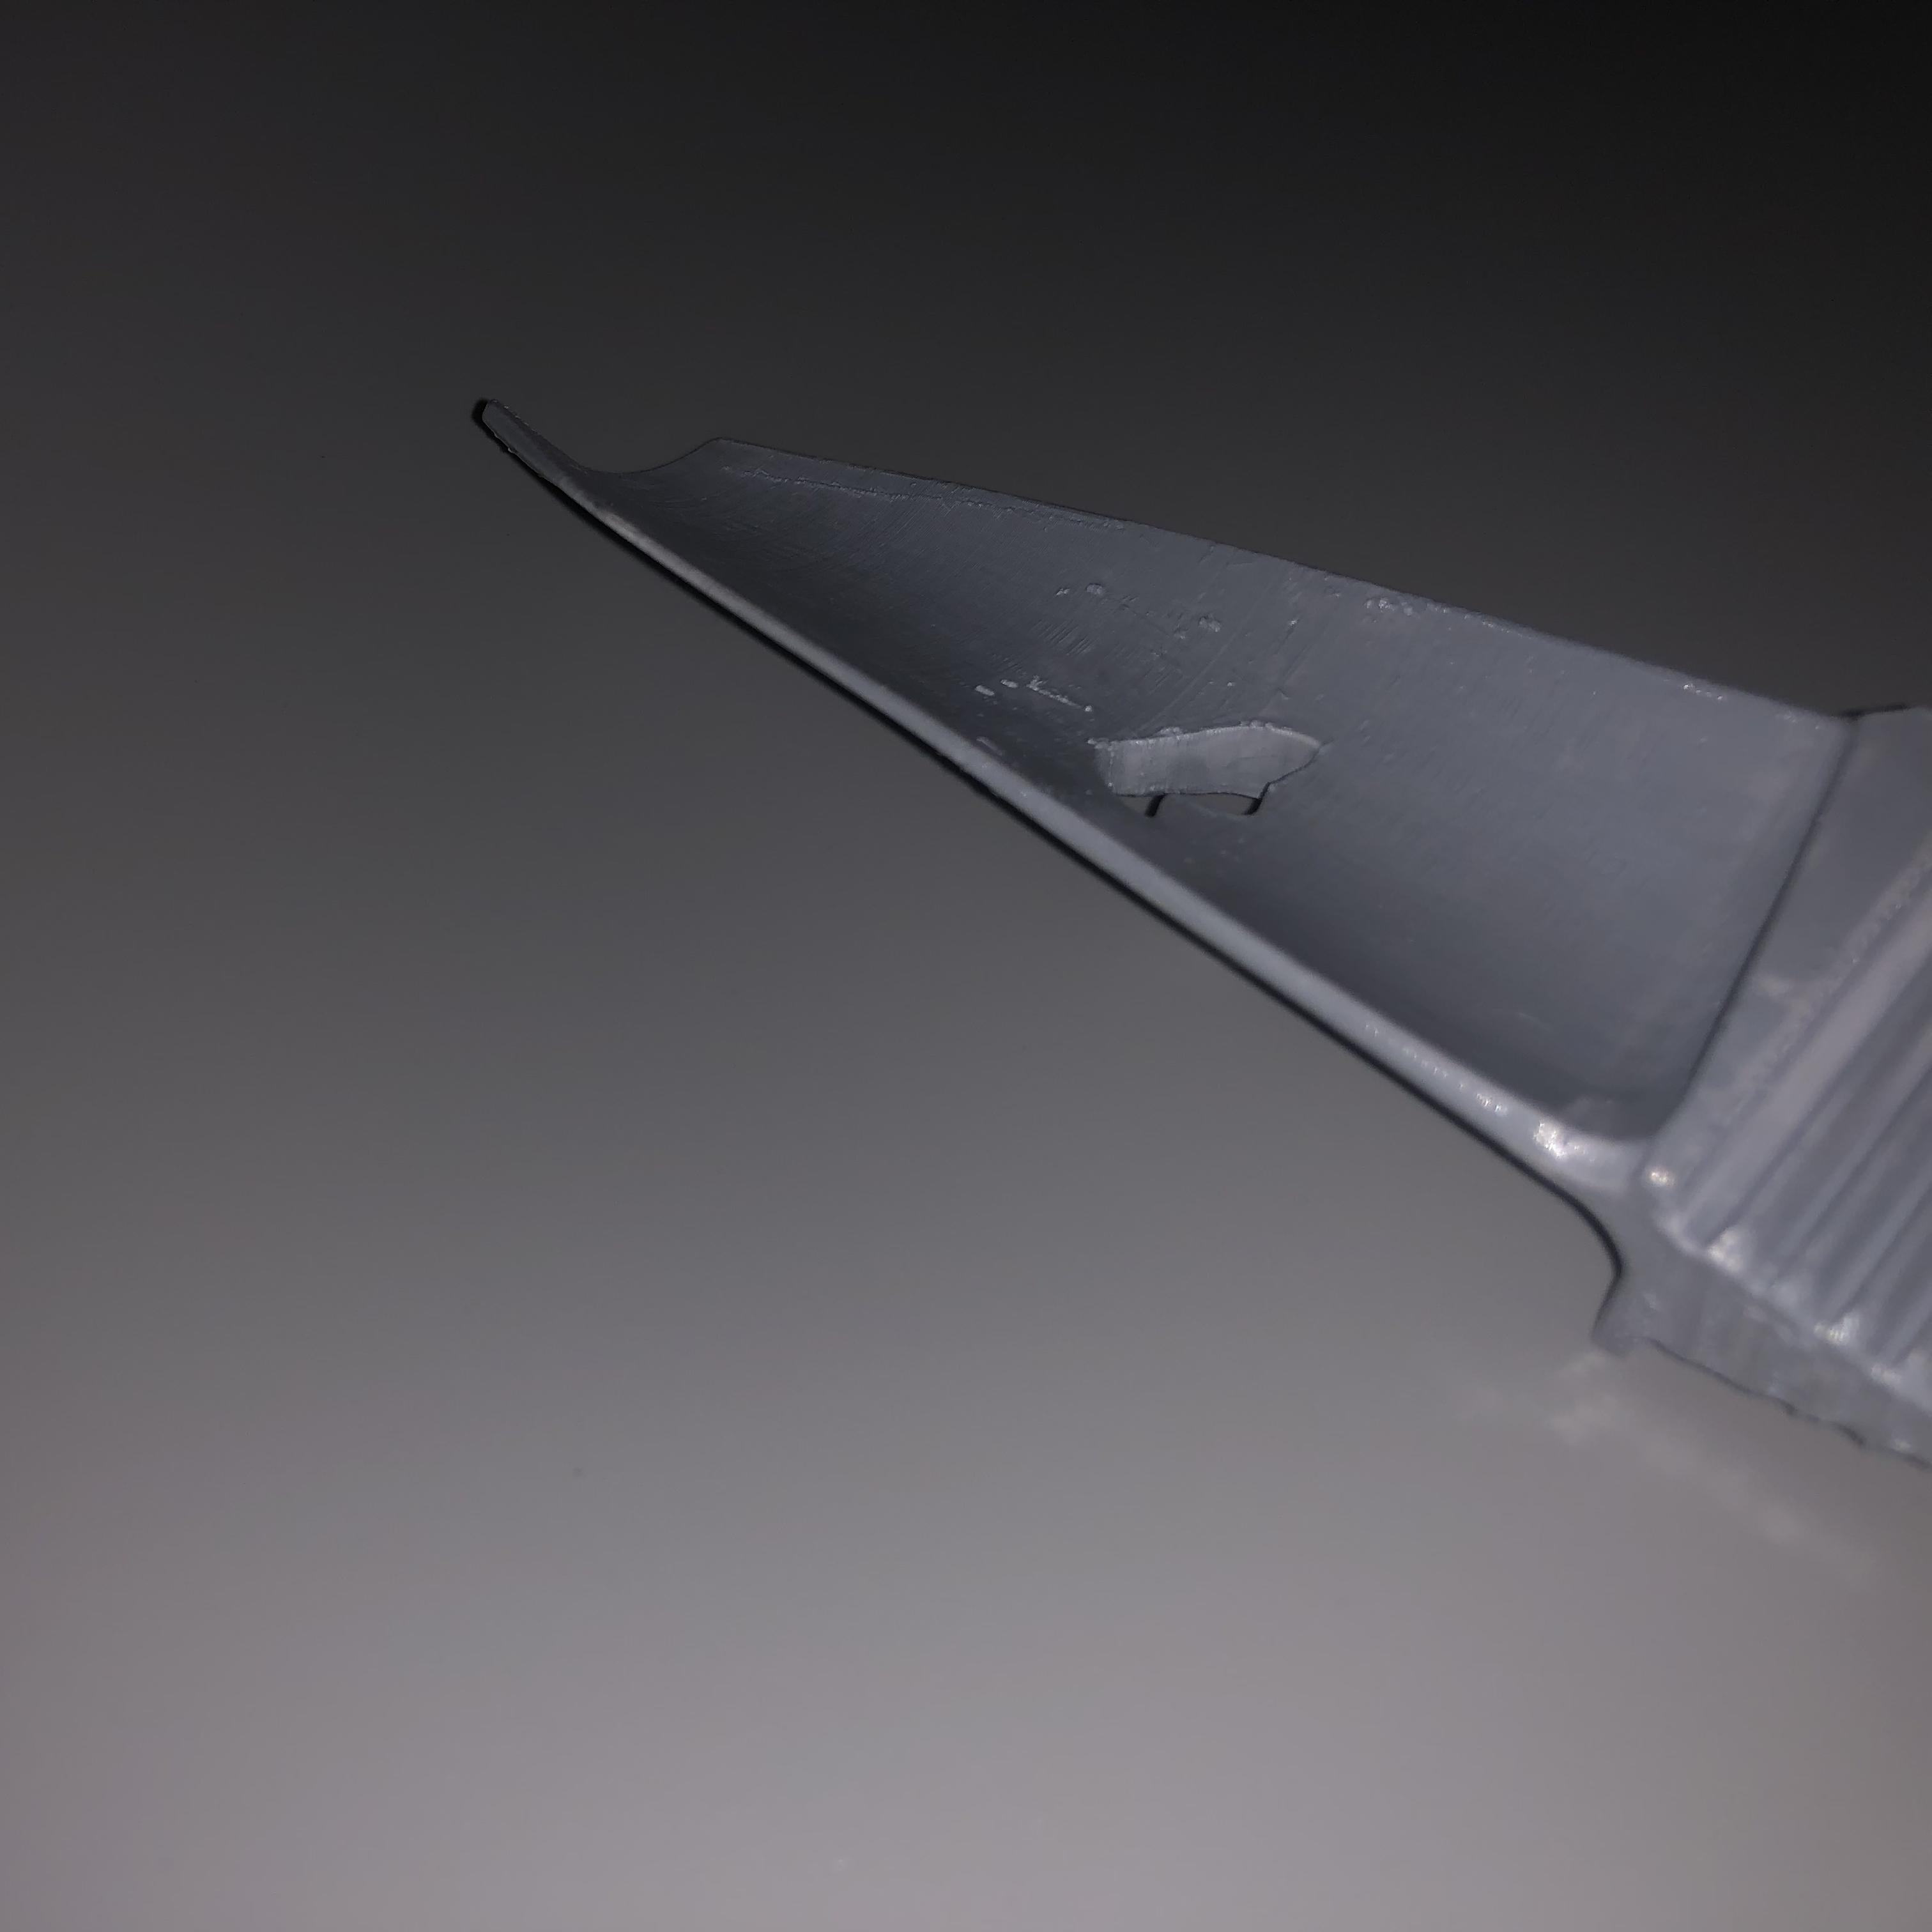breakdown: (1088, 709, 1332, 821)
